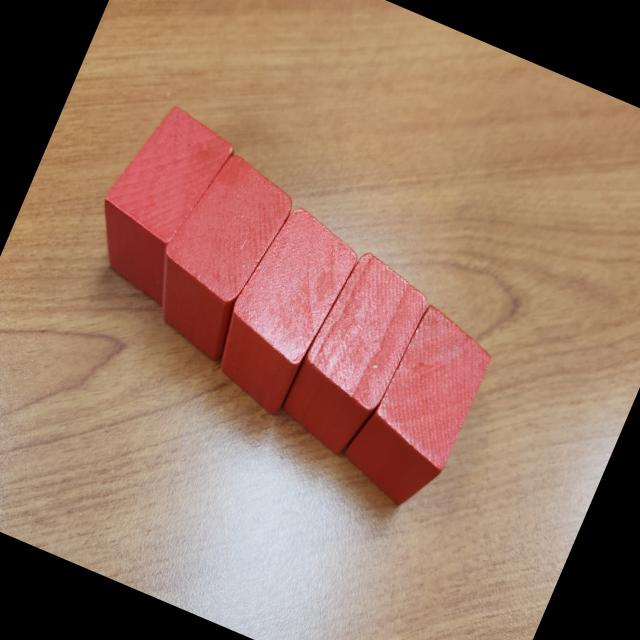red: (331, 295, 504, 521), (131, 142, 303, 366), (198, 198, 367, 422), (74, 94, 242, 310), (273, 245, 437, 465)
